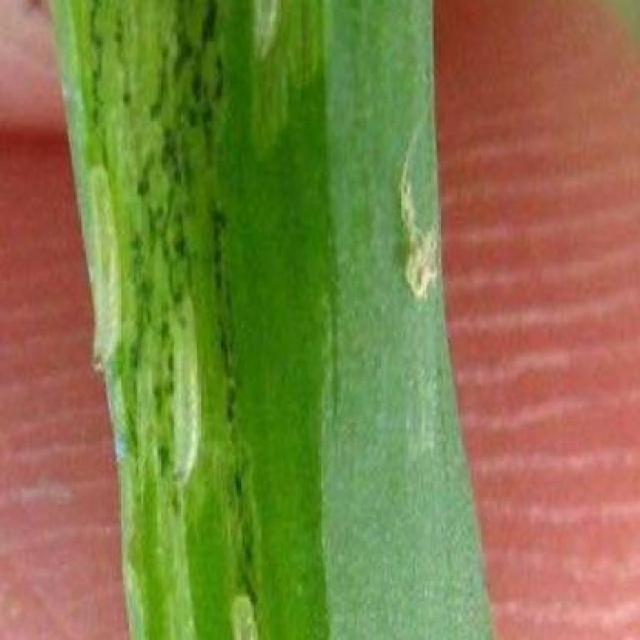whorl-maggot: (170, 286, 207, 492), (86, 160, 119, 382)
